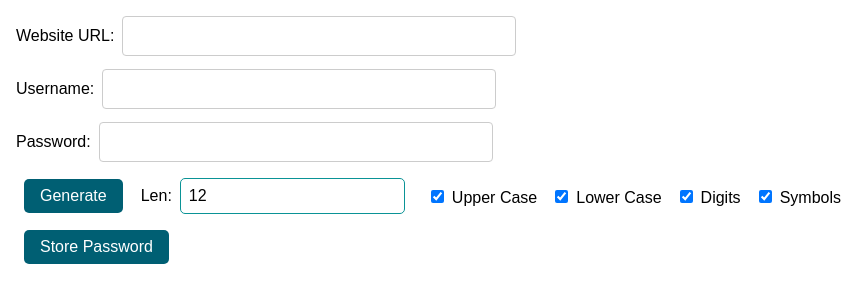
StorePasswordForm › generate password fails with error
This screenshot has width=858, height=299.
Step 1. Click the button "Generate" → (73, 196), box 24,179 -> 123,213
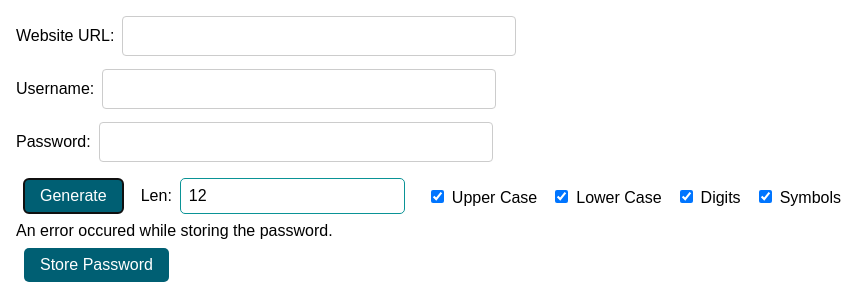
Expected: the text "An error occured while storing the password." is shown, 16,222 -> 333,239
